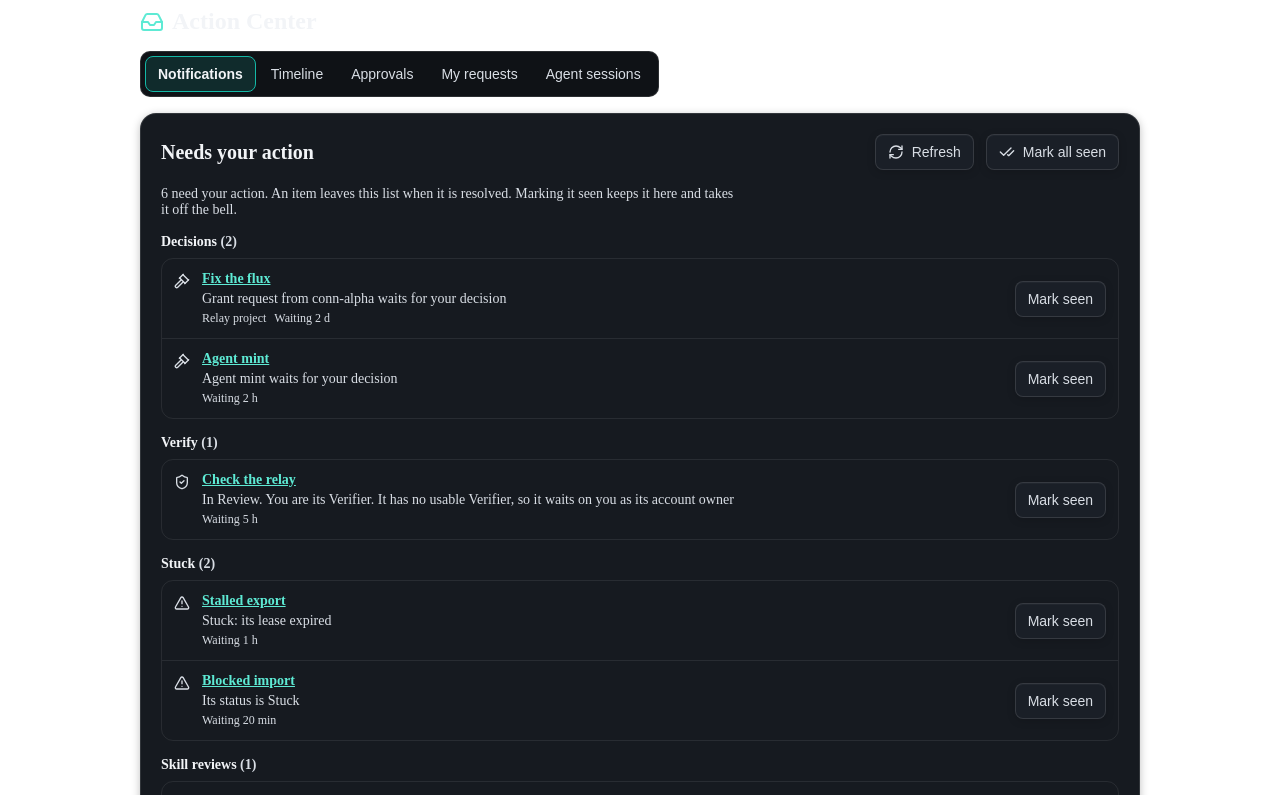
Test: the seen mark (E455): per item and all at once, kept on the list until resolved › "Mark all seen" posts { all: true }; every item stays, each shown as seen, and the button leaves
The image size is (1280, 795).
Expected: the link "Fix the flux" is shown, [202,271,270,286]
Step 1. Click the button "Mark all seen" → point(1052, 152), box [986,134,1119,170]
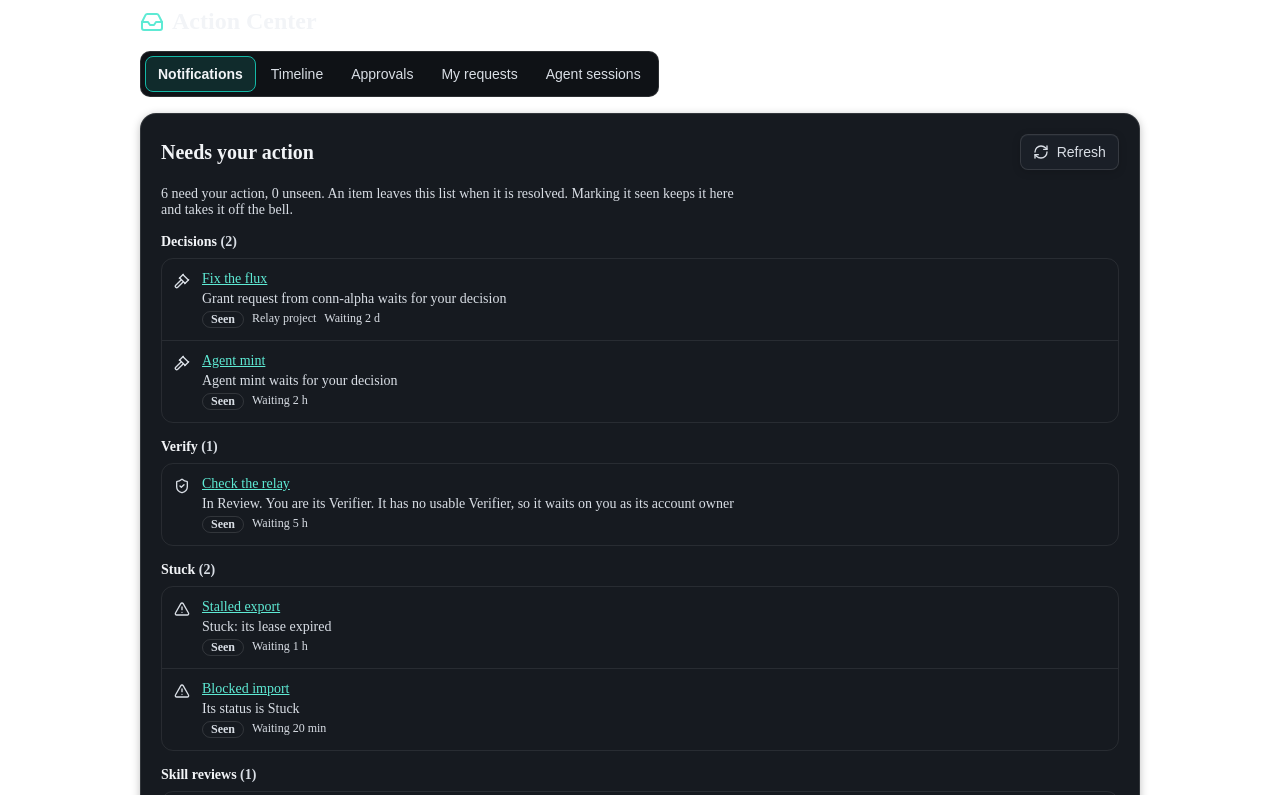
Now the text "Seen" is shown 6 times
Now the button "Mark all seen" is gone
